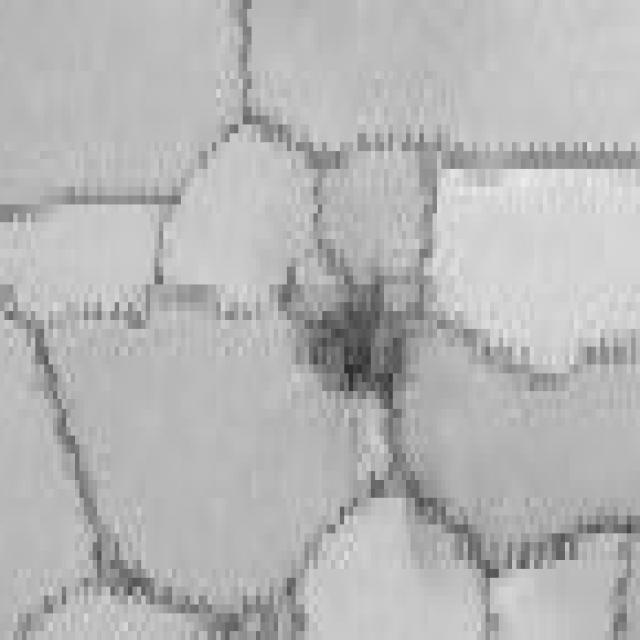good_void: (268, 263, 426, 439)
